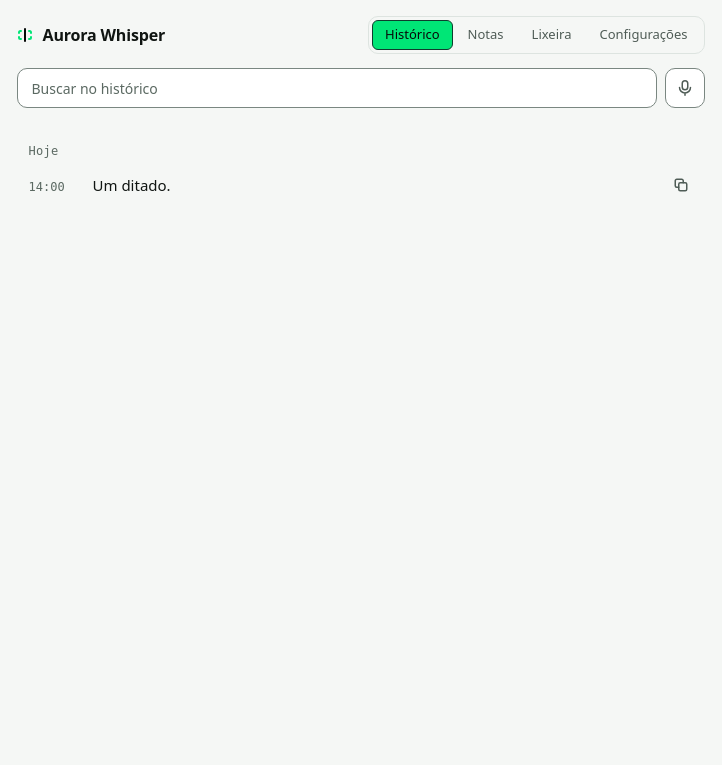
Test: a seção Aprendido › sem nada aprendido, diz com discrição e não tem botão
Expected: the button "14:00 Um ditado." is shown, top-left (16, 164), bottom-right (704, 206)
Click the button "Configurações" at {"x": 644, "y": 35}, box top-left (586, 20), bottom-right (700, 50)
(page scrolled)
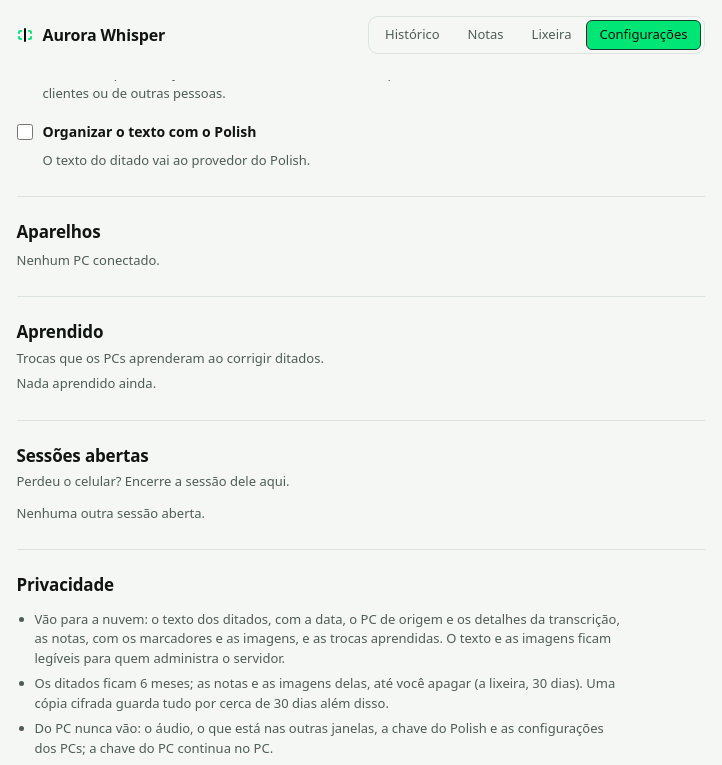
Now the heading "Aprendido" is shown, box top-left (16, 320), bottom-right (103, 343)
Now the text "Nada aprendido ainda." is shown, box top-left (16, 374), bottom-right (156, 392)
